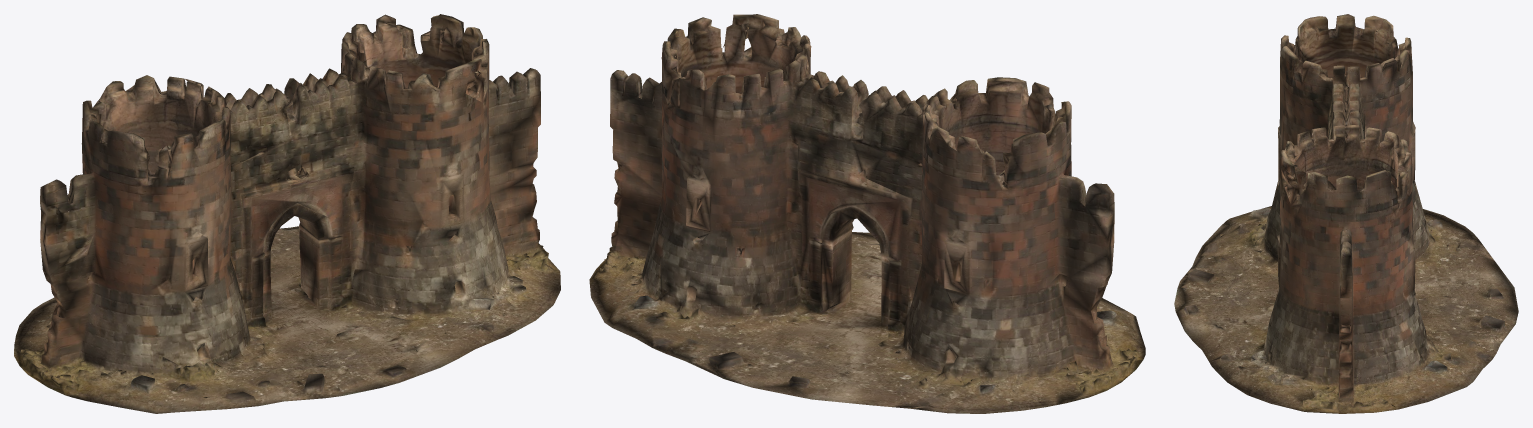
The model's file is city_kars_ani_walls.glb.
The picture shows the model from 3 angles, left to right: view 1: azimuth 30°, elevation 25°; view 2: azimuth 150°, elevation 25°; view 3: azimuth 270°, elevation 25°; orthographic projection. The views are drawn at different scales.
Parts seen in each view (by area): view 1: Mesh1.0; view 2: Mesh1.0; view 3: Mesh1.0.
Boxes of the visible parts, x1,y1,x2,y2 form: Mesh1.0: (14, 14, 560, 413); Mesh1.0: (589, 14, 1145, 413); Mesh1.0: (1174, 14, 1518, 413).
Bounding box in the file's own units: 30.96 × 14 × 20.71.
1 material, 1 textured.
